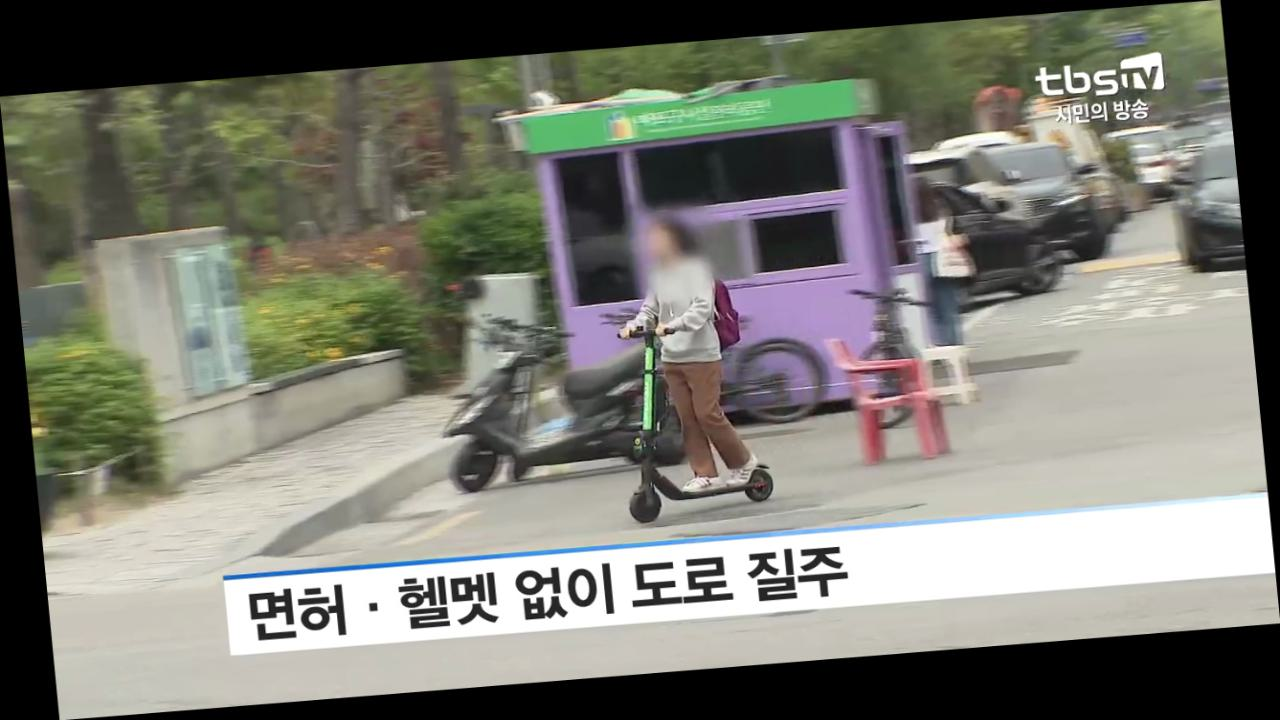nonhelmet: (592, 208, 793, 525)
